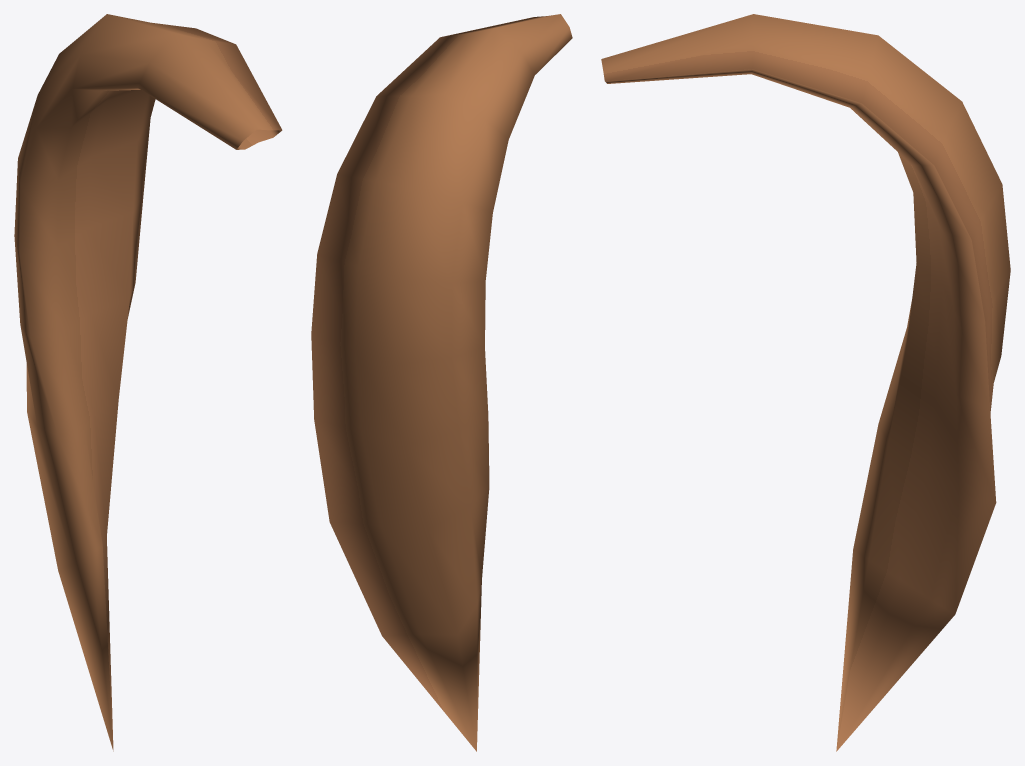
Rendered from Rambut.fbx.
3 renders of one model, left to right at view 1: azimuth 30°, elevation 25°; view 2: azimuth 150°, elevation 25°; view 3: azimuth 270°, elevation 25°, orthographic. The views are drawn at different scales.
Visible parts, largest first — view 1: Torus.001; view 2: Torus.001; view 3: Torus.001.
Part boxes in pixels (x1,y1,x2,y2): Torus.001: [14, 14, 282, 751]; Torus.001: [311, 14, 572, 751]; Torus.001: [601, 14, 1010, 751].
Bounding box in the file's own units: 9.4 × 42.91 × 21.29.
